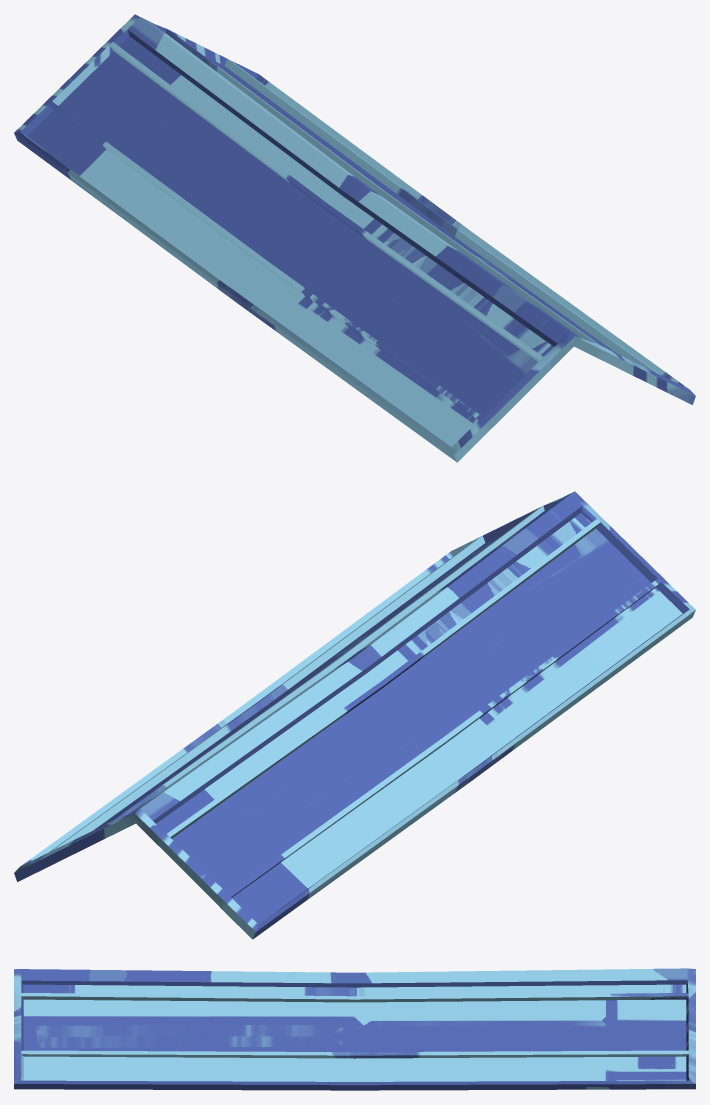
File: roof house 2.fbx
3 renders of one model, top to bottom at view 1: azimuth 30°, elevation 25°; view 2: azimuth 150°, elevation 25°; view 3: azimuth 270°, elevation 25°, orthographic. The views are drawn at different scales.
Visible parts, largest first — view 1: toit_2:toiture_2_LD; view 2: toit_2:toiture_2_LD; view 3: toit_2:toiture_2_LD.
Part boxes in pixels (x1,y1,x2,y2): toit_2:toiture_2_LD: (14, 14, 695, 462); toit_2:toiture_2_LD: (14, 491, 695, 939); toit_2:toiture_2_LD: (14, 968, 695, 1090).
Size of the model in its own units: 2839 by 1125 by 8947.
